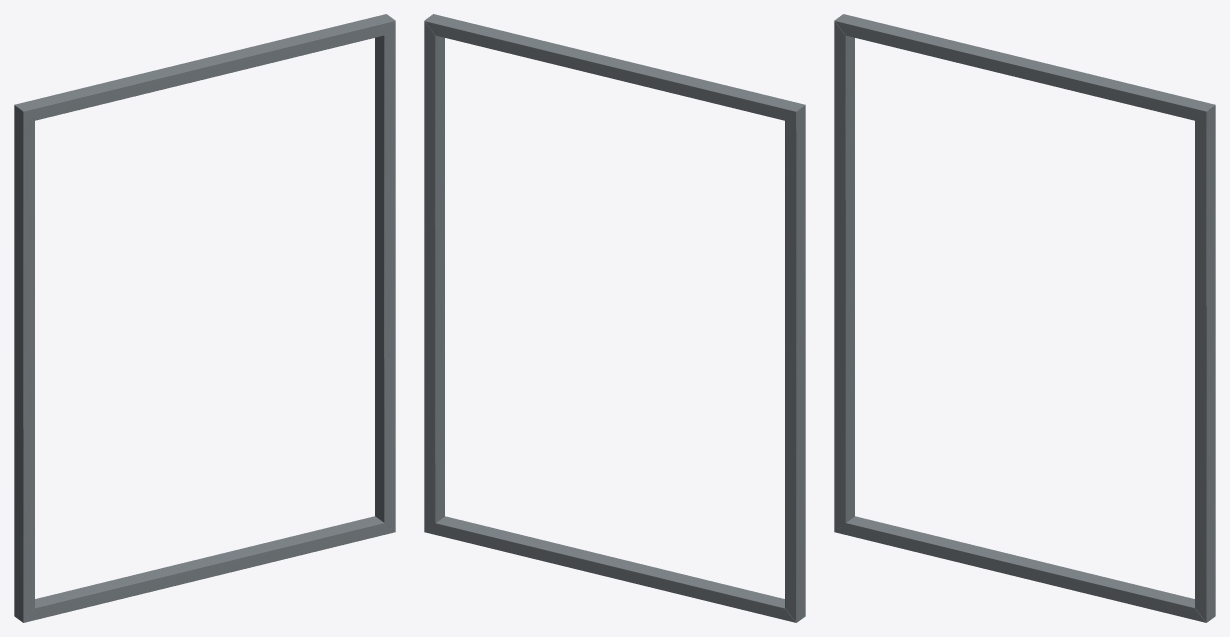
The picture shows the model from 3 angles, left to right: view 1: azimuth 30°, elevation 25°; view 2: azimuth 150°, elevation 25°; view 3: azimuth 330°, elevation 25°; orthographic projection.
Parts seen in each view (by area): view 1: Moulding_left, Moulding_right, Moulding_top, Moulding_bottom; view 2: Moulding_left, Moulding_right, Moulding_top, Moulding_bottom; view 3: Moulding_right, Moulding_left, Moulding_top, Moulding_bottom.
Part boxes in pixels (x1,y1,x2,y2): Moulding_left: (14,105,34,622); Moulding_right: (375,21,395,531); Moulding_top: (14,14,395,120); Moulding_bottom: (23,516,395,622); Moulding_left: (785,105,805,622); Moulding_right: (424,21,444,531); Moulding_top: (424,14,805,120); Moulding_bottom: (424,516,795,622); Moulding_right: (1195,105,1215,622); Moulding_left: (834,21,854,531); Moulding_top: (834,14,1215,120); Moulding_bottom: (834,516,1206,622).
Bounding box in the file's own units: 0.64 × 0.84 × 0.028.
1 material, 1 textured.
